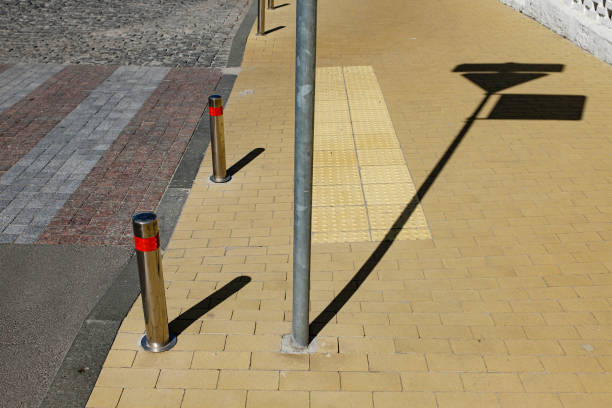bollard: (134, 212, 178, 356), (204, 90, 231, 185)
